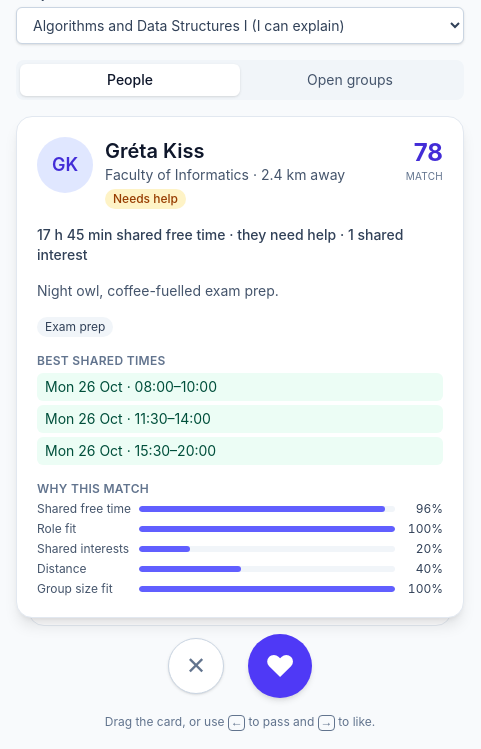
app shell › shows a toast based on the error code when an action fails
(page scrolled)
Click the button named "Like" at (280, 666), box [248,634,312,698]
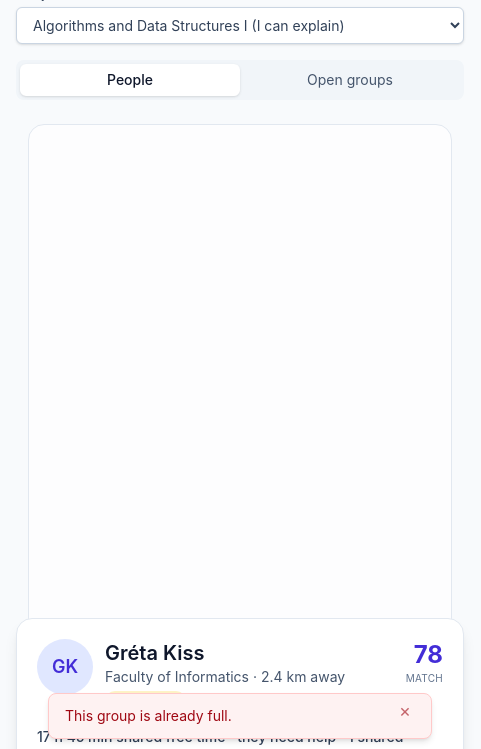
Result: the message shows "This group is already full." at [65,707,232,724]
